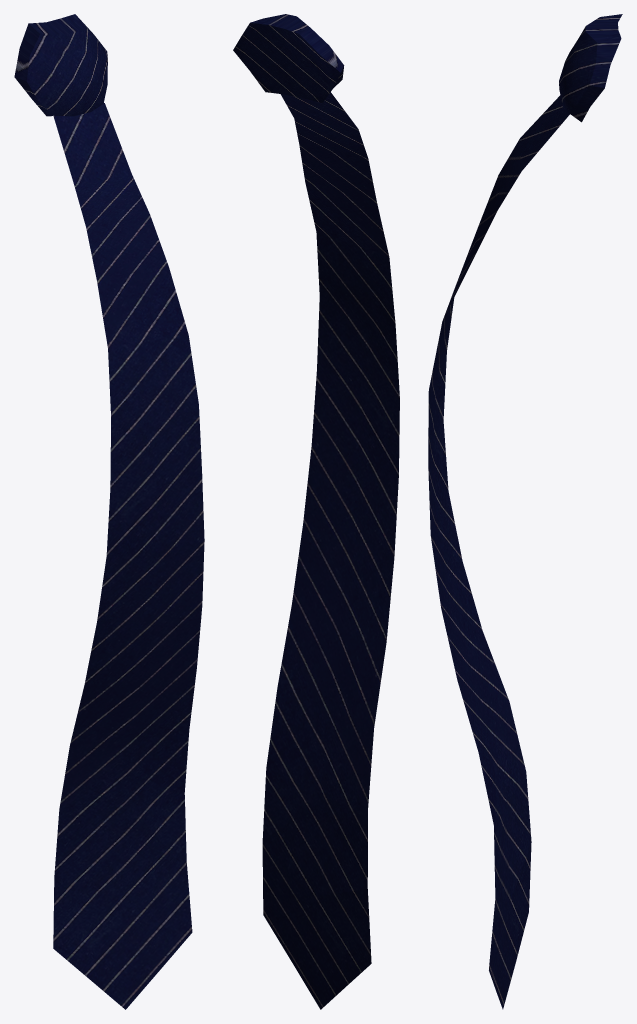
The model's file is Pose-0_SuitTie-4.fbx.
The picture shows the model from 3 angles, left to right: view 1: azimuth 30°, elevation 25°; view 2: azimuth 150°, elevation 25°; view 3: azimuth 270°, elevation 25°; orthographic projection. The views are drawn at different scales.
Parts seen in each view (by area): view 1: Pose-0_SuitTie-4; view 2: Pose-0_SuitTie-4; view 3: Pose-0_SuitTie-4.
Boxes of the visible parts, x1,y1,x2,y2 form: Pose-0_SuitTie-4: (14, 14, 204, 1009); Pose-0_SuitTie-4: (233, 14, 399, 1009); Pose-0_SuitTie-4: (428, 14, 622, 1009).
Size of the model in its own units: 7.02 by 51.29 by 9.26.
